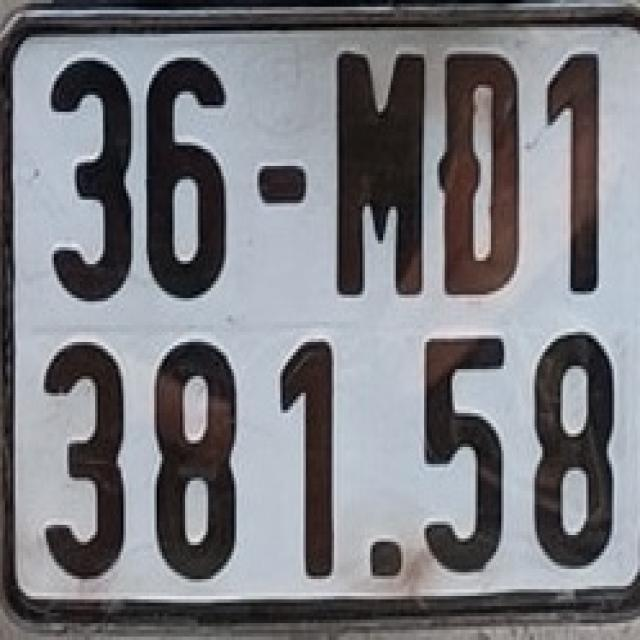1: (273, 332, 352, 579), (542, 46, 614, 296)
3: (42, 51, 138, 305), (36, 334, 131, 580)
5: (414, 325, 511, 579)
6: (139, 48, 234, 302)
8: (148, 327, 245, 584), (528, 323, 621, 574)
D: (433, 48, 528, 302)
M: (329, 39, 427, 296)
